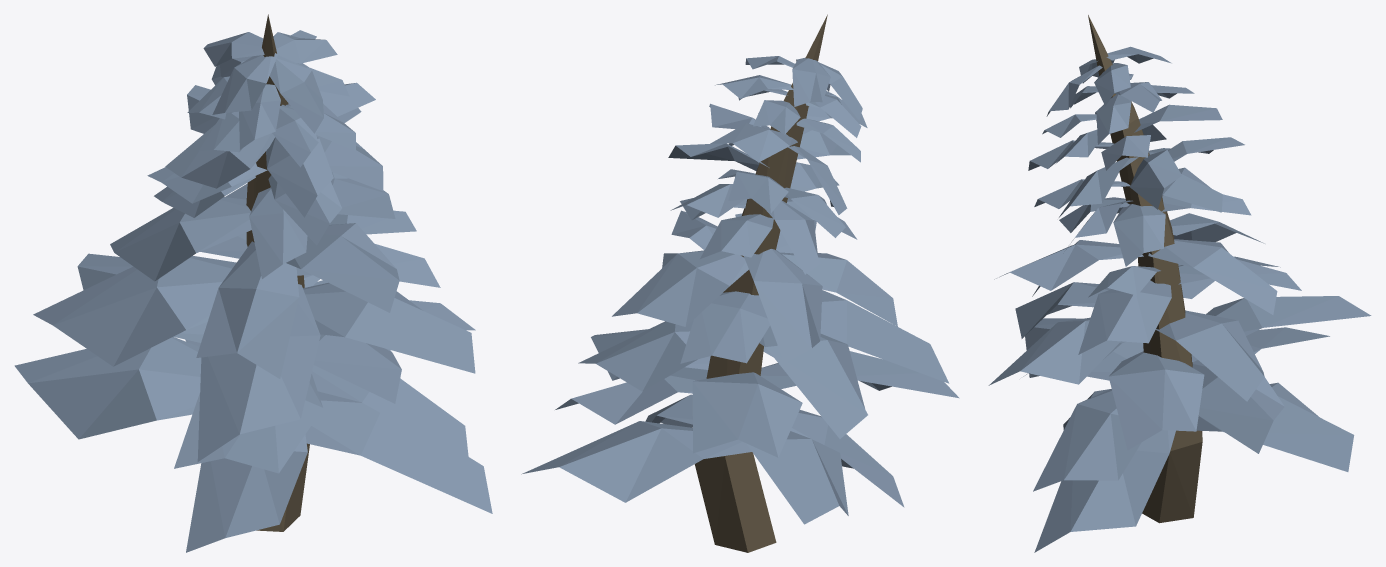
The model's file is Blue_Spruce_5_2.fbx.
The picture shows the model from 3 angles, left to right: view 1: azimuth 30°, elevation 25°; view 2: azimuth 150°, elevation 25°; view 3: azimuth 270°, elevation 25°; orthographic projection. The views are drawn at different scales.
Parts seen in each view (by area): view 1: Spurce_5_2; view 2: Spurce_5_2; view 3: Spurce_5_2.
Boxes of the visible parts, x1,y1,x2,y2 form: Spurce_5_2: [14, 14, 492, 552]; Spurce_5_2: [521, 14, 959, 552]; Spurce_5_2: [988, 15, 1371, 552].
Bounding box in the file's own units: 410 × 598 × 435.
